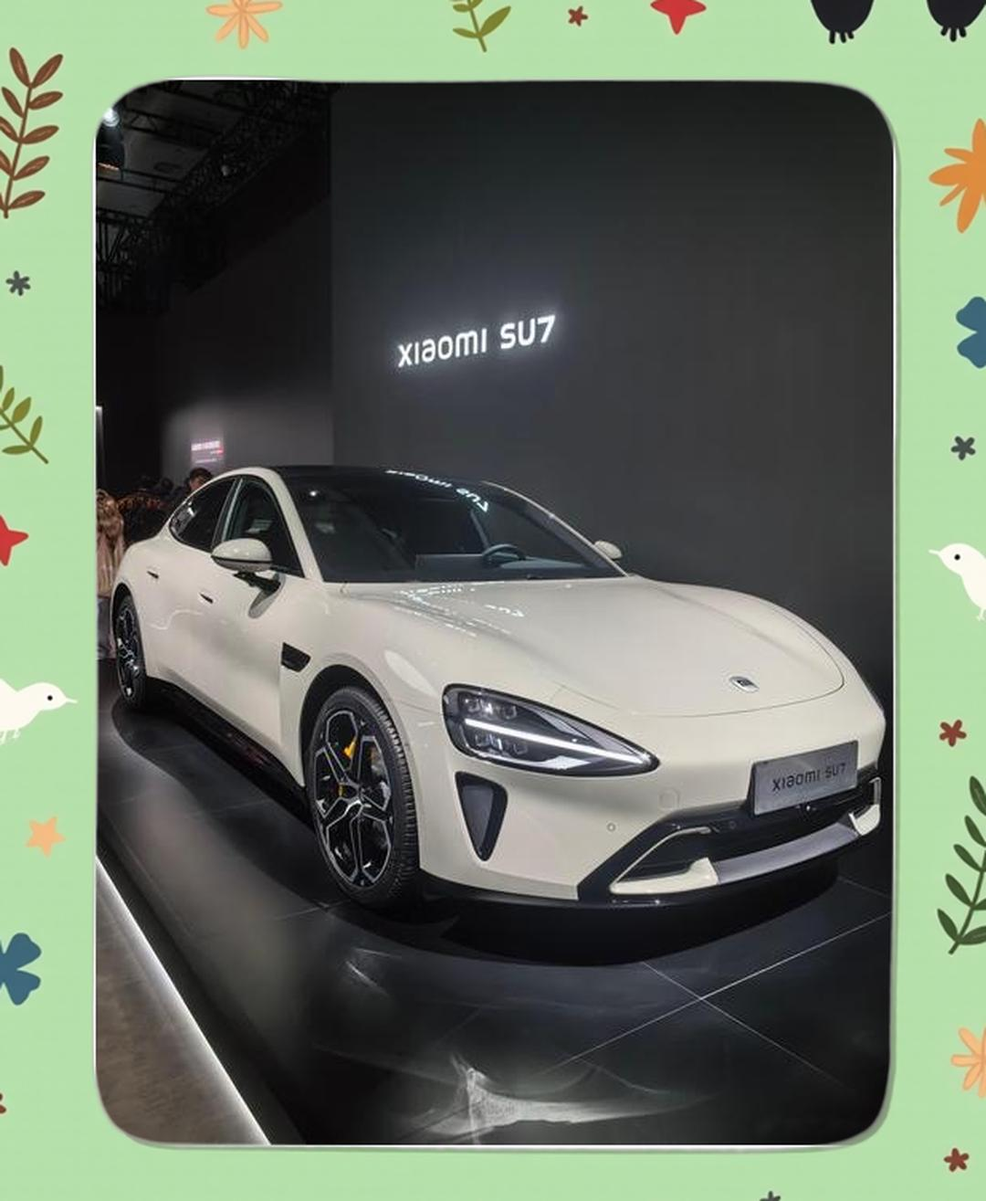su7: (113, 459, 897, 932)
